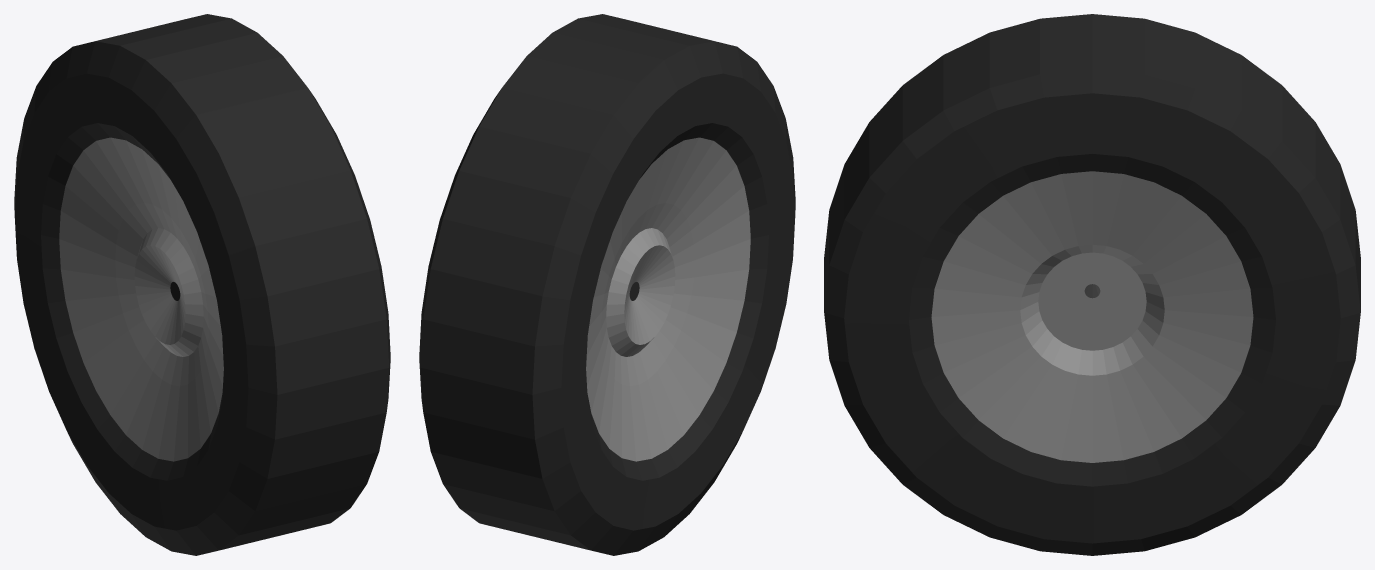
File: front_wheels.obj
3 renders of one model, left to right at view 1: azimuth 30°, elevation 25°; view 2: azimuth 150°, elevation 25°; view 3: azimuth 270°, elevation 25°, orthographic.
Visible parts, largest first — view 1: front_wheels, front_wheels_misc; view 2: front_wheels, front_wheels_misc; view 3: front_wheels, front_wheels_misc.
Boxes of the visible parts, x1,y1,x2,y2 form: front_wheels: (14, 14, 390, 555); front_wheels_misc: (59, 137, 223, 461); front_wheels: (419, 14, 795, 555); front_wheels_misc: (586, 137, 750, 461); front_wheels: (824, 14, 1360, 555); front_wheels_misc: (931, 171, 1253, 462).
Size of the model in its own units: 0.2103 by 0.6805 by 0.6805.
